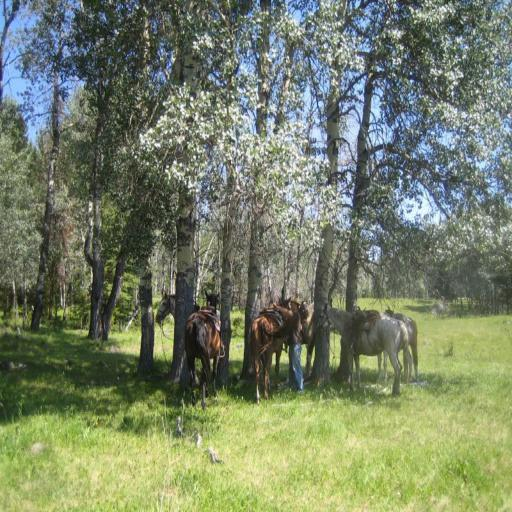horse: (318, 298, 408, 398), (246, 295, 292, 404), (154, 289, 198, 383), (184, 289, 222, 396)
